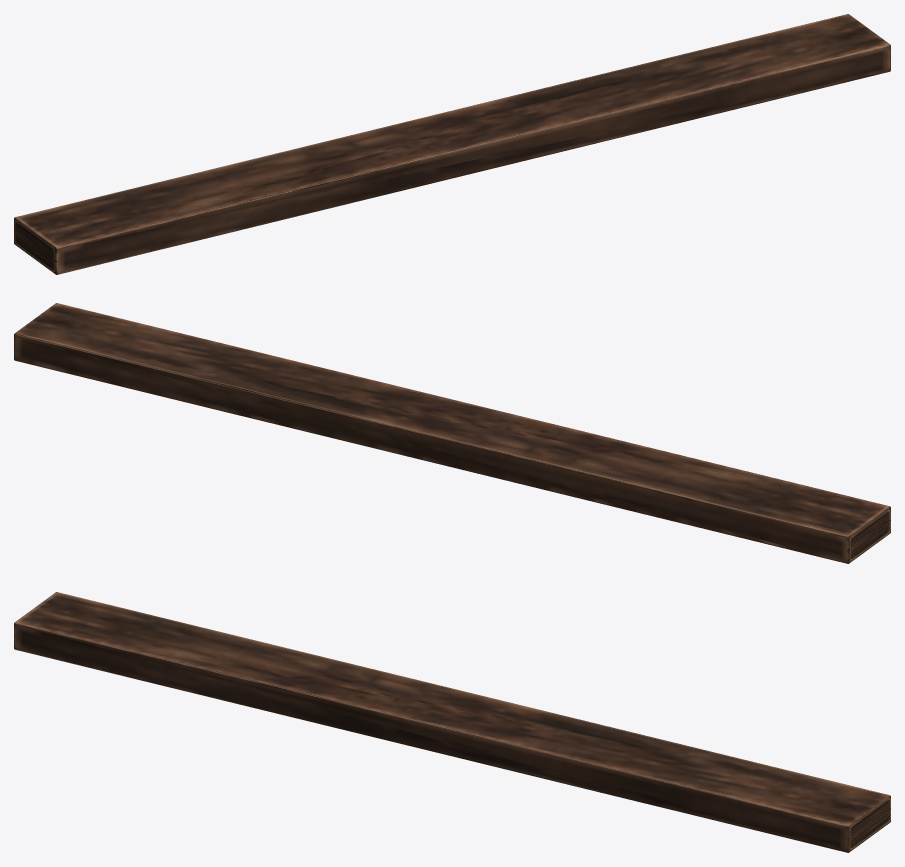
File: cleaned.glb
3 renders of one model, top to bottom at view 1: azimuth 30°, elevation 25°; view 2: azimuth 150°, elevation 25°; view 3: azimuth 330°, elevation 25°, orthographic.
Parts seen in each view (by area): view 1: M7 floor-c-m7; view 2: M7 floor-c-m7; view 3: M7 floor-c-m7.
Boxes of the visible parts, <box> form: M7 floor-c-m7: <box>14,14,890,274</box>; M7 floor-c-m7: <box>14,303,890,563</box>; M7 floor-c-m7: <box>14,592,890,852</box>.
Size of the model in its own units: 0.898 by 0.028 by 0.0795.
Materials: 1 (1 with a texture image).
